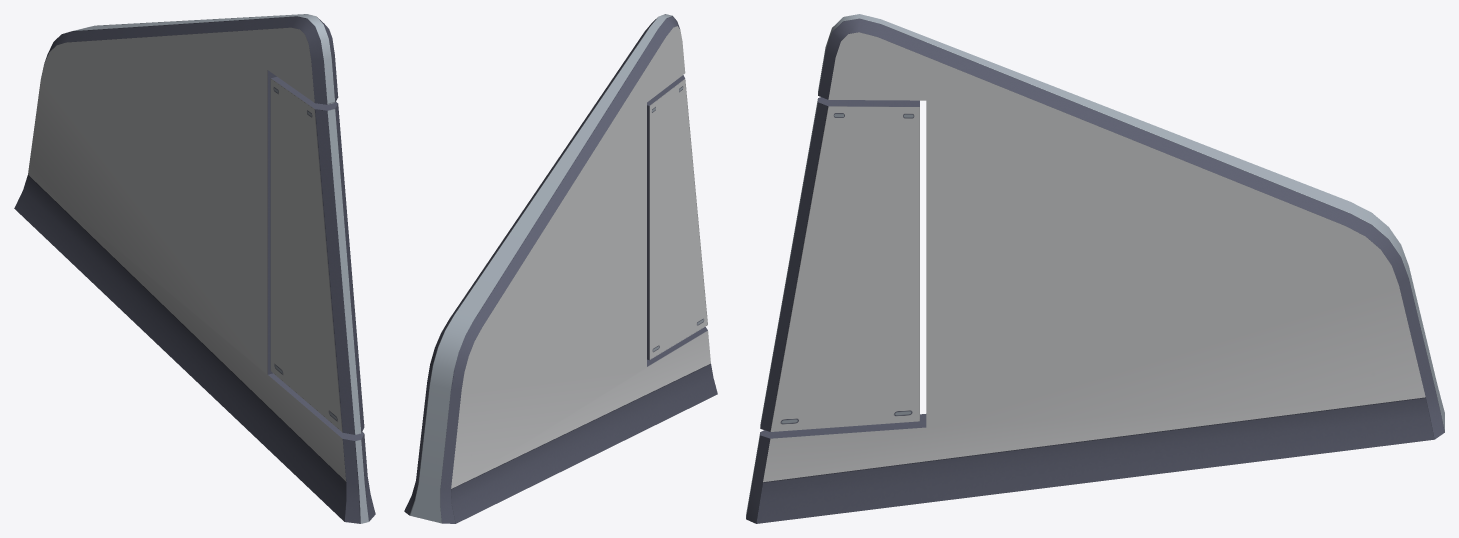
The model's file is Wing_09.FBX.
3 views of the same model, side by side, from view 1: azimuth 30°, elevation 25°; view 2: azimuth 150°, elevation 25°; view 3: azimuth 270°, elevation 25° (orthographic). The views are drawn at different scales.
Parts seen in each view (by area): view 1: Wing_09, Rudder_01; view 2: Wing_09, Rudder_01; view 3: Wing_09, Rudder_01.
Boxes of the visible parts, left/top/right/bottom form: Wing_09: left=14, top=14, right=375, bottom=523; Rudder_01: left=270, top=77, right=364, bottom=434; Wing_09: left=404, top=14, right=717, bottom=523; Rudder_01: left=647, top=75, right=707, bottom=359; Wing_09: left=746, top=14, right=1444, bottom=523; Rudder_01: left=760, top=97, right=919, bottom=431.
Size of the model in its own units: 0.3091 by 2.32 by 2.93.
1 material, 1 textured.
